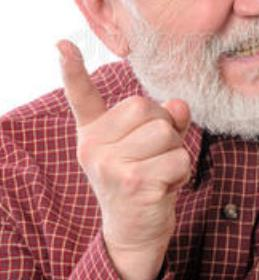up: (54, 38, 194, 250)
